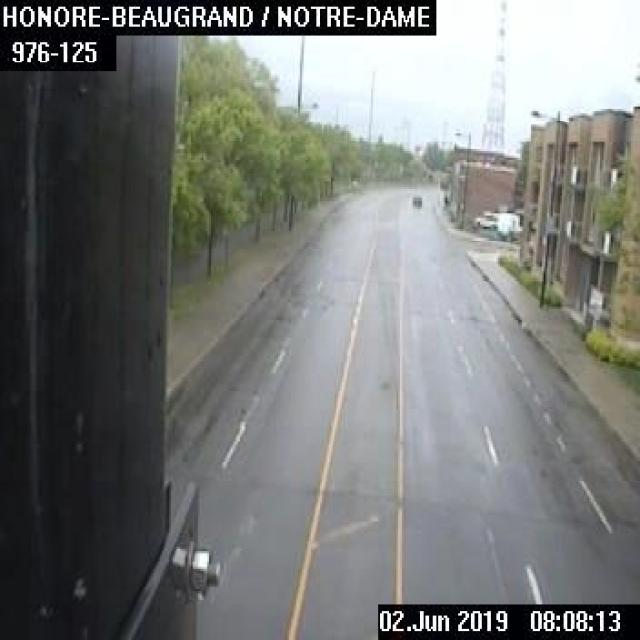vehicle: (473, 210, 497, 228), (411, 193, 421, 204)
